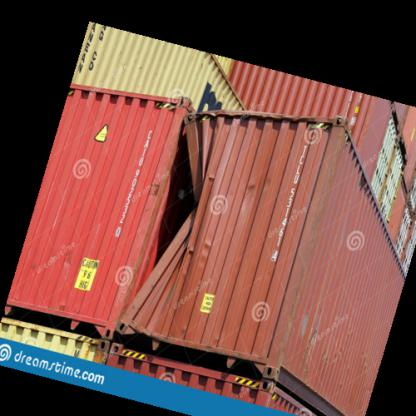Damage: (137, 128, 211, 275)
